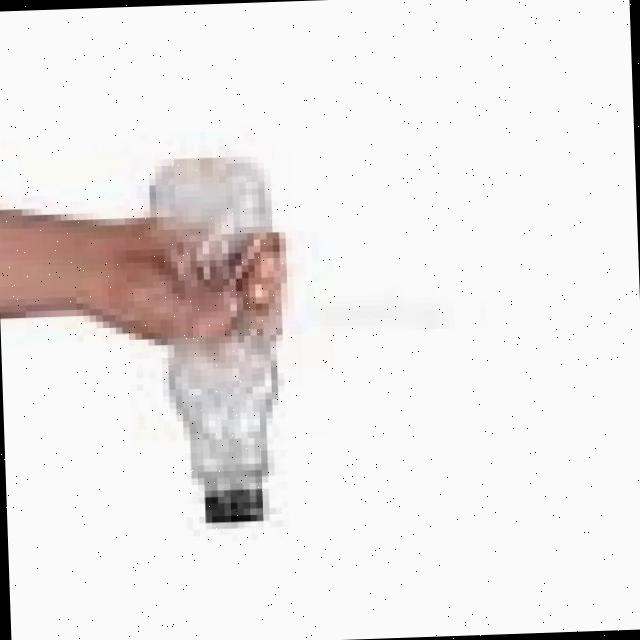bottle: (86, 149, 304, 536)
cap: (199, 488, 272, 530)
